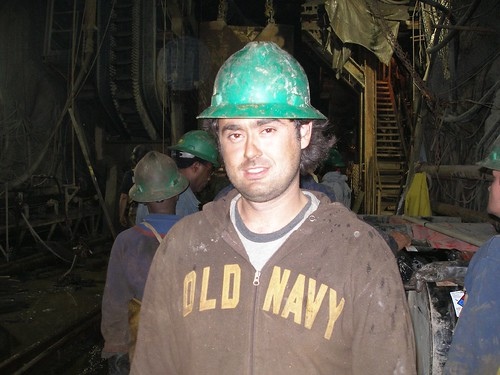person hardhat: (161, 41, 400, 374), (112, 153, 194, 369), (445, 142, 497, 375), (138, 129, 227, 226), (318, 146, 357, 216)
